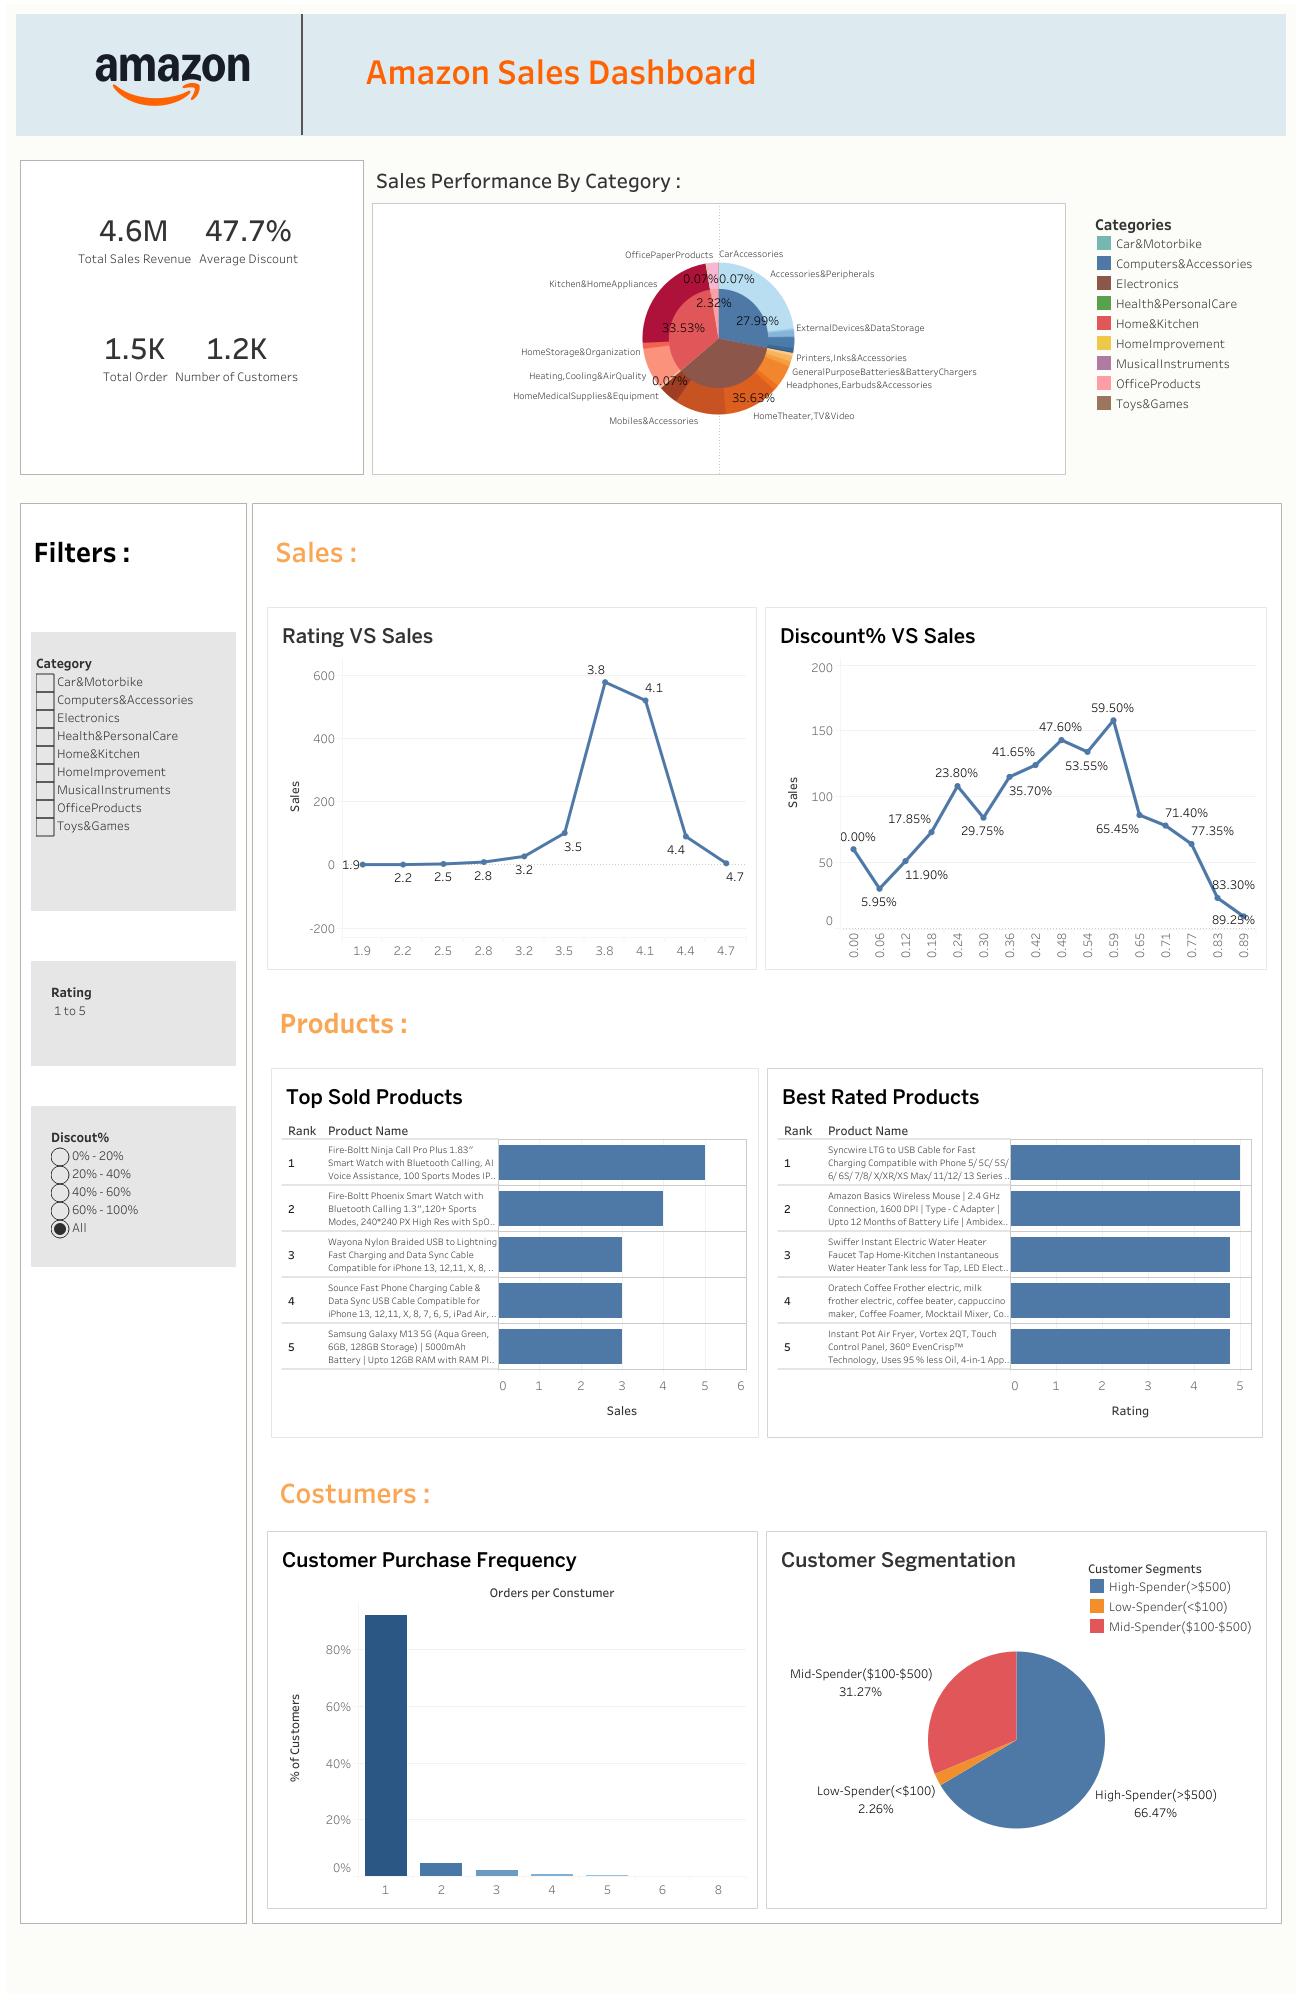

The dashboard page shown, as its layout file describes it:
{"tool":"tableau","page":{"name":"Amazon Sales Dashboard","canvas":[1300,2000],"ordinal":0},"visuals":[{"type":"image","param":"D:/Users/HP/Documents/Data Analytics/Projects/Amazon Sales Analytics with Python","box":[56,14,253,122]},{"type":"text","box":[309,14,977,122]},{"type":"worksheet","title":"sales performance by category","mark":"Pie","cols":["Calculation_864409654168612879","Calculation_864409654168612879"],"box":[368,156,702,323]},{"type":"legend","title":"sales performance by category","param":"[federated.1rnd0ok1pssxt81fw8iiy05292y9].[none:subcategory_1:nk]","box":[1070,156,216,323]},{"type":"worksheet","title":"KPIs","mark":"Automatic","box":[26,161,332,148]},{"type":"worksheet","title":"KPIs (2)","mark":"Automatic","box":[26,309,332,137]},{"type":"text","box":[21,504,225,98]},{"type":"text","box":[263,514,1008,74]},{"type":"filter","title":"Customer Segmentation","param":"[federated.1rnd0ok1pssxt81fw8iiy05292y9].[none:subcategory_1:nk]","box":[21,602,225,339]},{"type":"worksheet","title":"Sales VS Rating","mark":"Line","rows":["Calculation_934778397939974144"],"cols":["rating (bin)"],"box":[263,603,498,371]},{"type":"worksheet","title":"Discount % vs Sales","mark":"Line","rows":["Calculation_934778397939974144"],"cols":["discount_percentage (bin)"],"box":[761,603,510,371]},{"type":"filter","title":"Sales VS Rating","param":"[federated.1rnd0ok1pssxt81fw8iiy05292y9].[none:rating:qk]","box":[21,941,225,145]},{"type":"text","box":[263,974,1008,86]},{"type":"worksheet","title":"Top Sold Products ","mark":"Bar","rows":["Calculation_864409654156427275","product_name"],"cols":["product_id"],"box":[267,1064,496,378]},{"type":"worksheet","title":"product rate","mark":"Automatic","rows":["Calculation_864409654156427275","product_name"],"cols":["Calculation_934778397968351234"],"box":[763,1064,504,378]},{"type":"parameter","param":"[Parameters].[Parameter 1]","box":[21,1086,225,201]},{"type":"text","box":[263,1446,1008,81]},{"type":"worksheet","title":"custumer purchase frequency","mark":"Automatic","rows":["Calculation_864409654123261958"],"cols":["Calculation_864409654123069445"],"box":[263,1527,499,386]},{"type":"worksheet","title":"Customer Segmentation","mark":"Pie","box":[762,1527,509,386]},{"type":"legend","title":"Customer Segmentation","param":"[federated.1rnd0ok1pssxt81fw8iiy05292y9].[none:Calculation_864409654139269127:nk","box":[1087,1557,177,78]}]}

Visuals, with their boxes in screenshot pixels (x1, y1, x2, y2), scaled from the page's 1300x2000 canvas onto the 1299x1999 screenshot:
image: detection(56, 14, 309, 136)
text: detection(309, 14, 1285, 136)
"sales performance by category" worksheet (Pie marks): detection(368, 156, 1069, 479)
"sales performance by category" legend: detection(1069, 156, 1285, 479)
"KPIs" worksheet: detection(26, 161, 358, 309)
"KPIs (2)" worksheet: detection(26, 309, 358, 446)
text: detection(21, 504, 246, 602)
text: detection(263, 514, 1270, 588)
"Customer Segmentation" filter: detection(21, 602, 246, 941)
"Sales VS Rating" worksheet (Line marks): detection(263, 603, 760, 974)
"Discount % vs Sales" worksheet (Line marks): detection(760, 603, 1270, 974)
"Sales VS Rating" filter: detection(21, 941, 246, 1085)
text: detection(263, 974, 1270, 1059)
"Top Sold Products " worksheet (Bar marks): detection(267, 1063, 762, 1441)
"product rate" worksheet: detection(762, 1063, 1266, 1441)
parameter: detection(21, 1085, 246, 1286)
text: detection(263, 1445, 1270, 1526)
"custumer purchase frequency" worksheet: detection(263, 1526, 761, 1912)
"Customer Segmentation" worksheet (Pie marks): detection(761, 1526, 1270, 1912)
"Customer Segmentation" legend: detection(1086, 1556, 1263, 1634)
